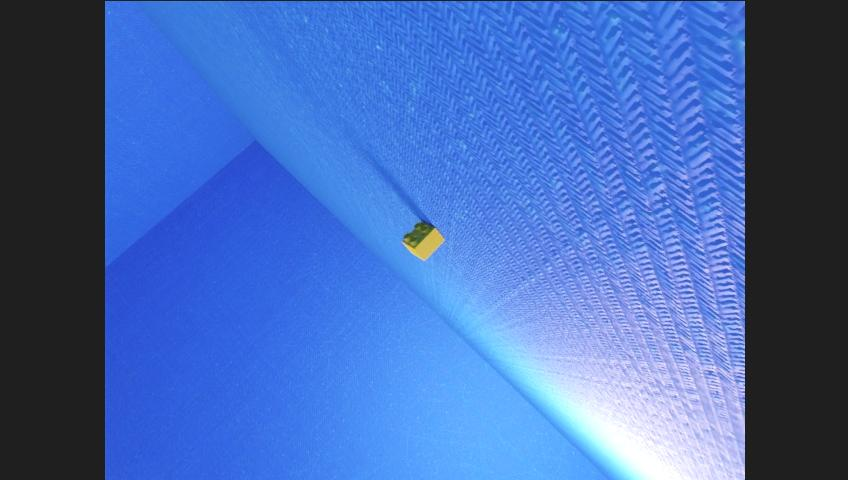2x2_yellow: (402, 222, 444, 261)
